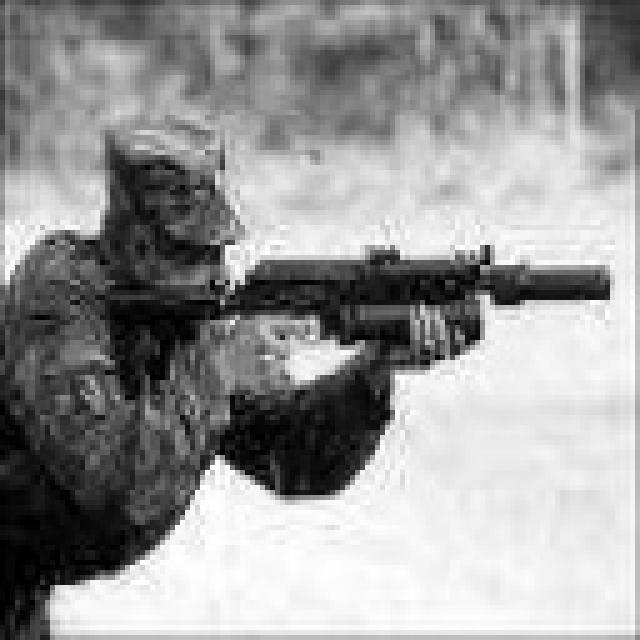Rifle: (27, 227, 640, 427)
